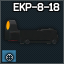Axion Kobra EKP-8-18 reflex sight: (0, 0, 64, 64)
